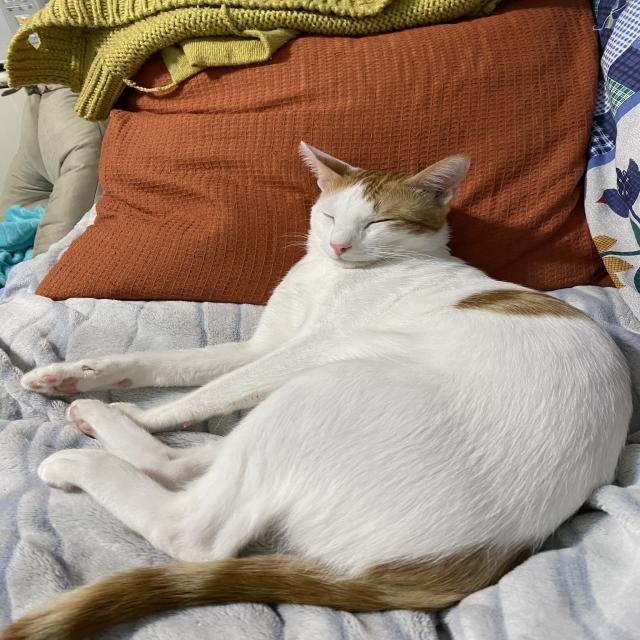cat1: (20, 150, 628, 640)
